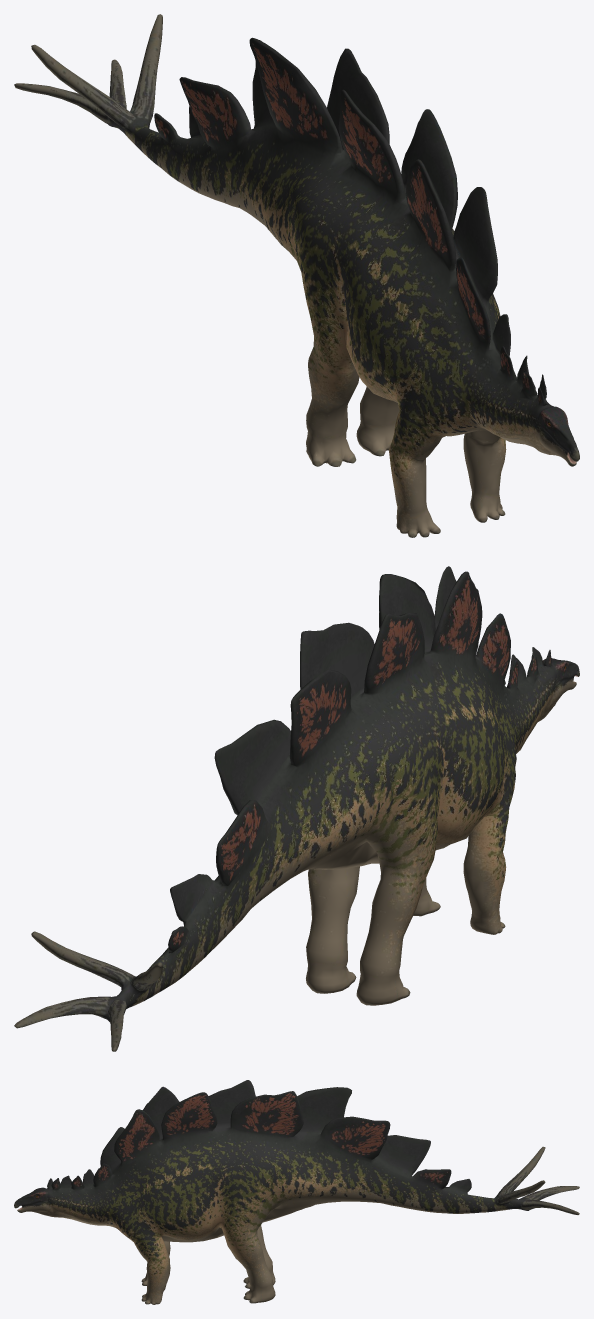
Rendered from Estegosaurio.glb.
3 views of the same model, one above another, from view 1: azimuth 30°, elevation 25°; view 2: azimuth 150°, elevation 25°; view 3: azimuth 270°, elevation 25° (orthographic). The views are drawn at different scales.
Parts seen in each view (by area): view 1: DW_Estegosaurio_Adulto_Mayor_mesh; view 2: DW_Estegosaurio_Adulto_Mayor_mesh; view 3: DW_Estegosaurio_Adulto_Mayor_mesh.
Boxes of the visible parts, box(x1,y1,x2,y2) form: DW_Estegosaurio_Adulto_Mayor_mesh: box(14, 14, 579, 537); DW_Estegosaurio_Adulto_Mayor_mesh: box(14, 566, 579, 1051); DW_Estegosaurio_Adulto_Mayor_mesh: box(14, 1080, 579, 1304).
Bounding box in the file's own units: 0.1466 × 0.4028 × 1.
2 materials, 2 textured.
